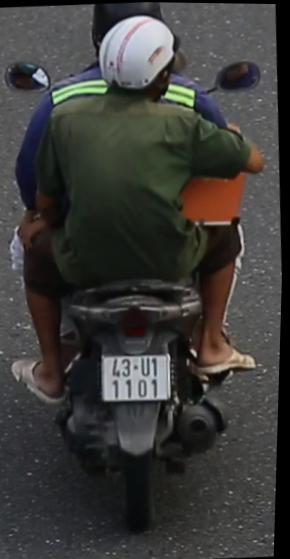LP: (100, 346, 179, 407)
helmet: (95, 9, 185, 116)
